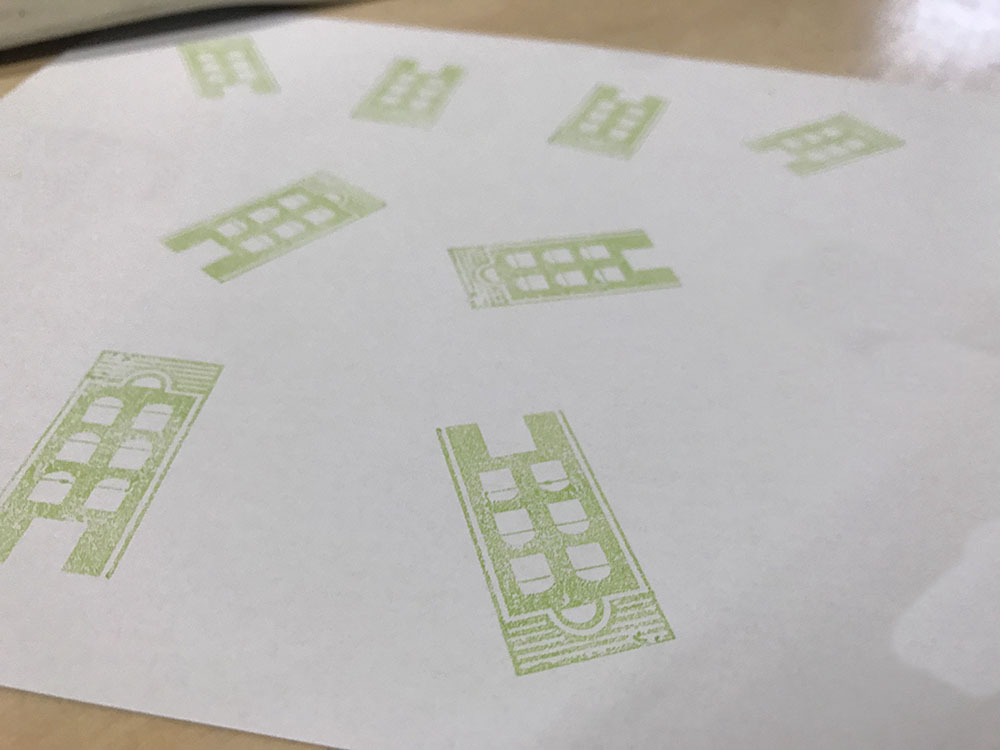build: (411, 396, 730, 684), (130, 141, 425, 305), (439, 222, 694, 318), (727, 97, 917, 191), (530, 68, 692, 176), (337, 44, 481, 148), (173, 28, 300, 118)
